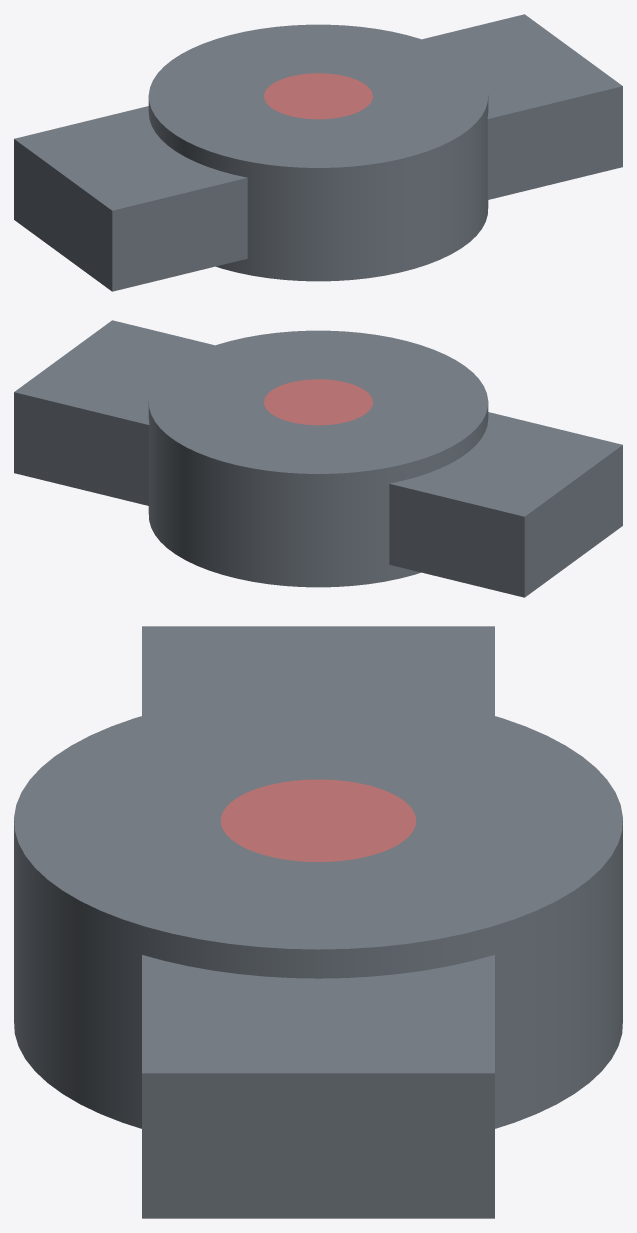
File: step_29.glb
3 renders of one model, top to bottom at view 1: azimuth 30°, elevation 25°; view 2: azimuth 150°, elevation 25°; view 3: azimuth 270°, elevation 25°, orthographic. The views are drawn at different scales.
Visible parts, largest first — view 1: part__main rotor hub, removed__main rotor hub; view 2: part__main rotor hub, removed__main rotor hub; view 3: part__main rotor hub, removed__main rotor hub.
Part boxes in pixels (left/top/right/bottom): part__main rotor hub: left=14, top=14, right=622, bottom=291; removed__main rotor hub: left=264, top=73, right=372, bottom=119; part__main rotor hub: left=14, top=320, right=622, bottom=597; removed__main rotor hub: left=264, top=379, right=372, bottom=425; part__main rotor hub: left=14, top=626, right=622, bottom=1218; removed__main rotor hub: left=220, top=779, right=416, bottom=861.
Bounding box in the file's own units: 660 × 140 × 380.
